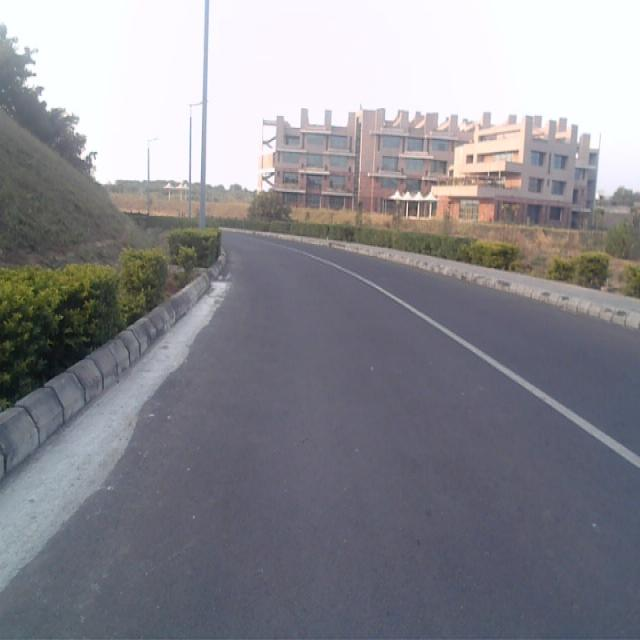lane: (0, 239, 640, 640)
